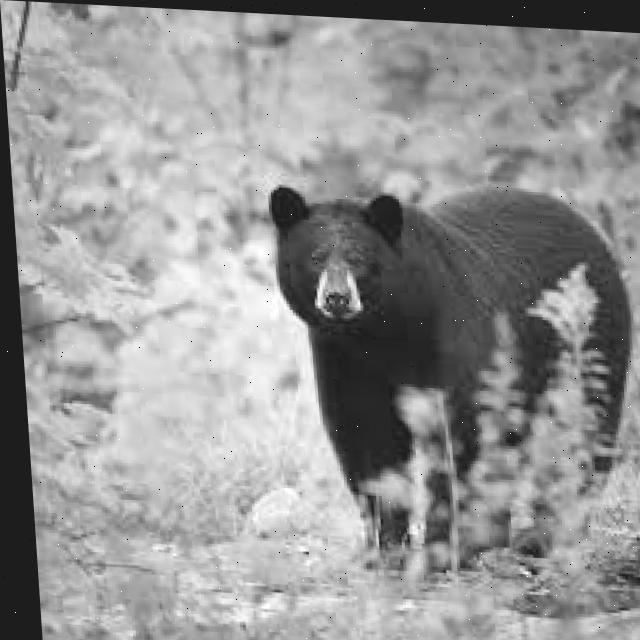Bear: (269, 180, 640, 573)
